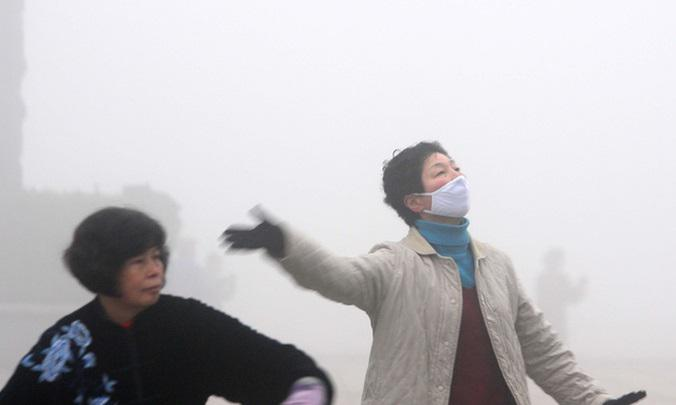NONE: (118, 240, 164, 302)
WRONG: (427, 158, 473, 219)
